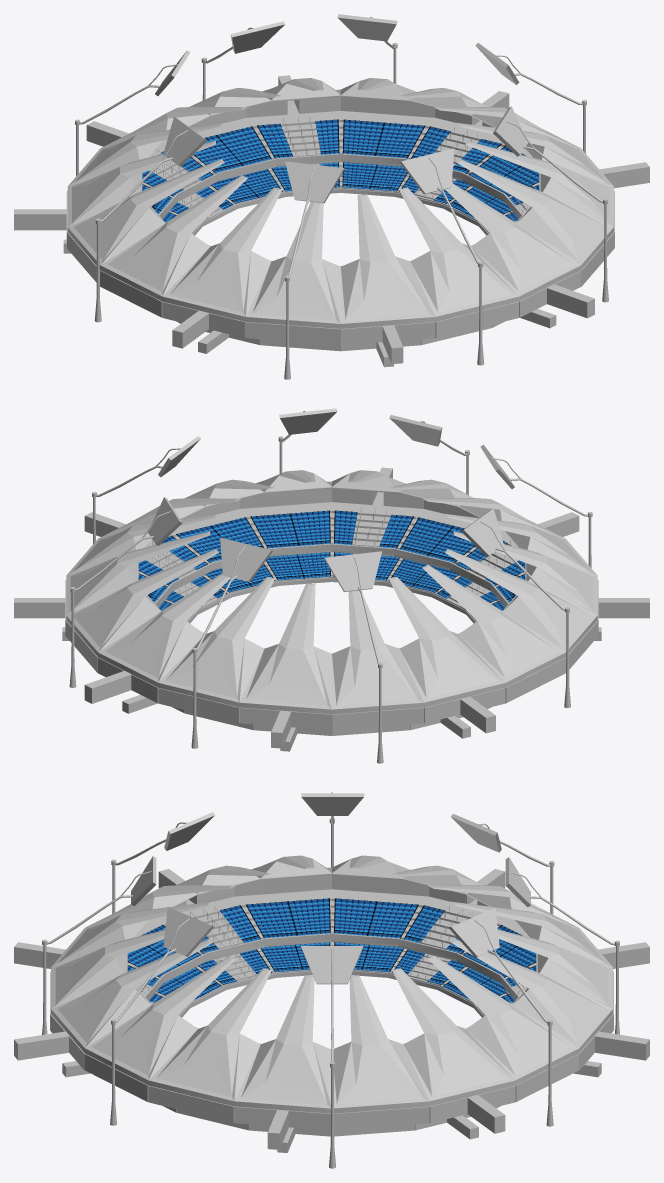
Rendered from Stadium.FBX.
The picture shows the model from 3 angles, top to bottom: view 1: azimuth 30°, elevation 25°; view 2: azimuth 150°, elevation 25°; view 3: azimuth 270°, elevation 25°; orthographic projection. The views are drawn at different scales.
Parts seen in each view (by area): view 1: Roof, StadiumSection023, StadiumSection024, StadiumSection025, StadiumSection022, Lights07, Lights, BoundryBanners001, StadiumSection032, StadiumSection031, Lights01, StadiumSection021 (+23 smaller); view 2: Roof, StadiumSection018, StadiumSection029, StadiumSection030, StadiumSection028, Lights02, Lights03, BoundryBanners001, StadiumSection027, StadiumSection019, StadiumSection021, StadiumSection031 (+23 smaller); view 3: Roof, StadiumSection034, StadiumSection033, StadiumSection019, StadiumSection032, BoundryBanners001, Lights05, Lights04, Lights06, StadiumSection025, StadiumSection027, StadiumSection018 (+24 smaller).
Part boxes in pixels (x1,y1,x2,y2): Roof: (67,78,613,330); StadiumSection023: (246,75,340,166); StadiumSection024: (341,97,435,166); StadiumSection025: (405,91,509,180); StadiumSection022: (166,108,276,180); Lights07: (284,161,344,379); Lights: (399,148,484,365); BoundryBanners001: (159,154,522,218); StadiumSection032: (162,301,245,348); StadiumSection031: (341,322,435,363); Lights01: (94,117,206,322); StadiumSection021: (86,121,219,201); Roof: (66,470,597,714); StadiumSection018: (332,467,423,556); StadiumSection029: (240,488,331,556); StadiumSection030: (394,500,501,569); StadiumSection028: (171,500,268,569); Lights02: (324,551,383,763); Lights03: (191,537,272,748); BoundryBanners001: (155,544,508,606); StadiumSection027: (84,512,213,590); StadiumSection019: (424,688,505,733); StadiumSection021: (239,707,331,748); StadiumSection031: (450,512,579,590); Roof: (51,855,612,1113); StadiumSection034: (332,875,429,946); StadiumSection033: (234,875,331,946); StadiumSection019: (398,869,511,960); StadiumSection032: (152,869,265,960); BoundryBanners001: (145,933,518,999); Lights05: (300,946,363,1168); Lights04: (449,908,553,1126); Lights06: (110,907,214,1125); StadiumSection025: (429,1085,515,1133); StadiumSection027: (234,1106,330,1149); StadiumSection018: (14,1014,84,1069).
Bounding box in the file's own units: 321 × 99.39 × 326.
